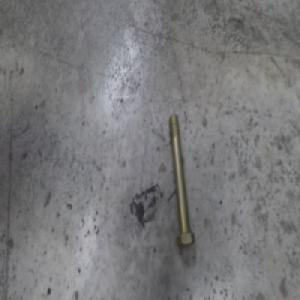Bolt: (165, 110, 193, 246)
